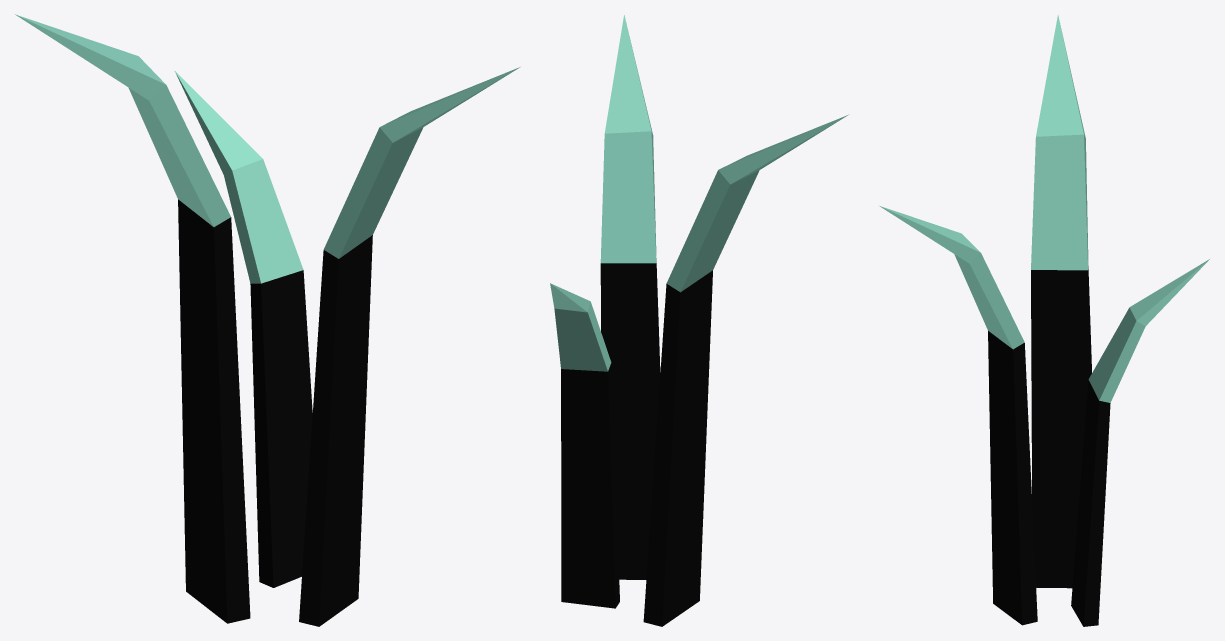
File: Grass_3.fbx
The picture shows the model from 3 angles, left to right: view 1: azimuth 30°, elevation 25°; view 2: azimuth 150°, elevation 25°; view 3: azimuth 270°, elevation 25°; orthographic projection. The views are drawn at different scales.
Parts seen in each view (by area): view 1: Grass_3; view 2: Grass_3; view 3: Grass_3.
Boxes of the visible parts, x1=… form: Grass_3: x1=15, y1=14, x2=520, y2=626; Grass_3: x1=550, y1=15, x2=848, y2=626; Grass_3: x1=879, y1=14, x2=1209, y2=626.
Bounding box in the file's own units: 0.087 × 0.1377 × 0.0844.
